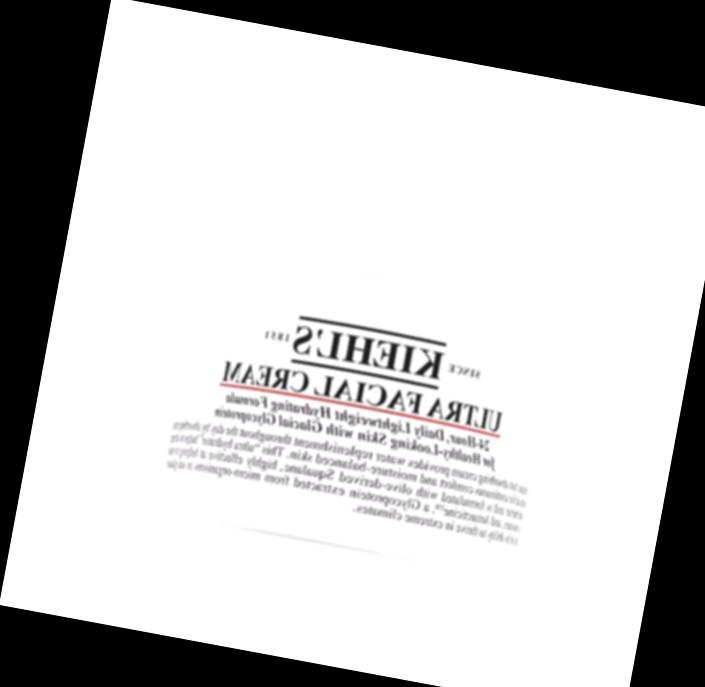cosmetic: (153, 208, 577, 582)
